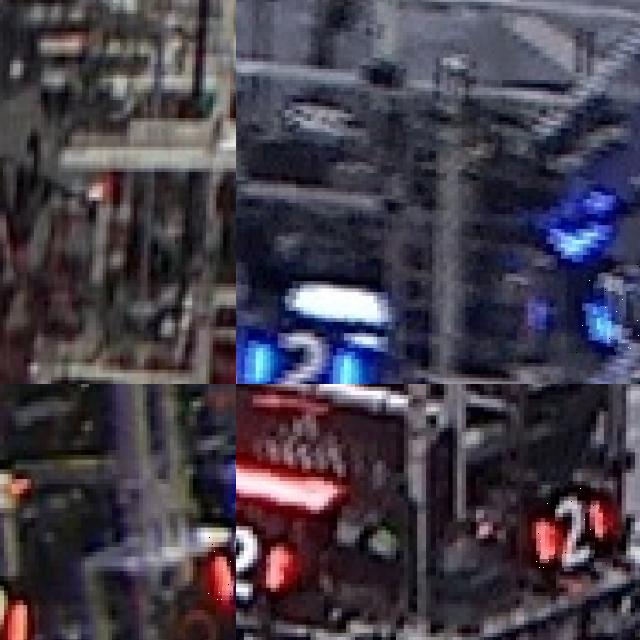B2: (236, 319, 368, 384), (566, 260, 640, 353)
R2: (521, 488, 611, 570), (236, 517, 301, 612), (208, 517, 236, 605), (0, 576, 31, 640)
